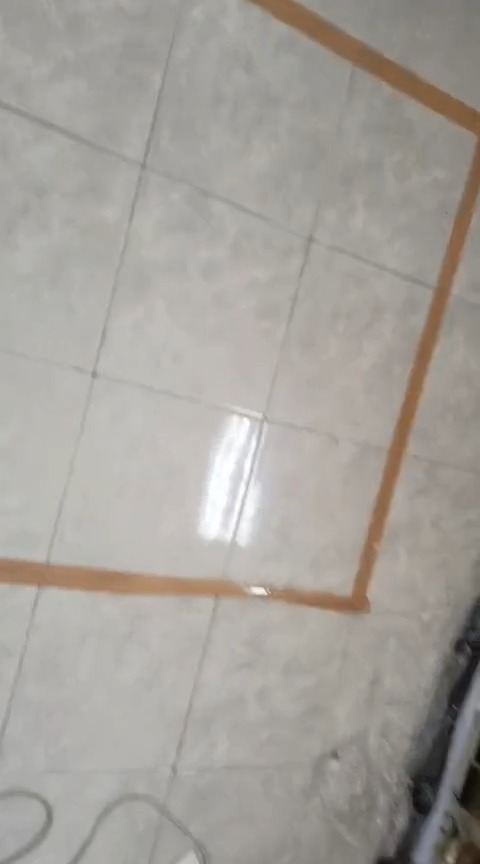floor marking: (0, 0, 479, 612)
